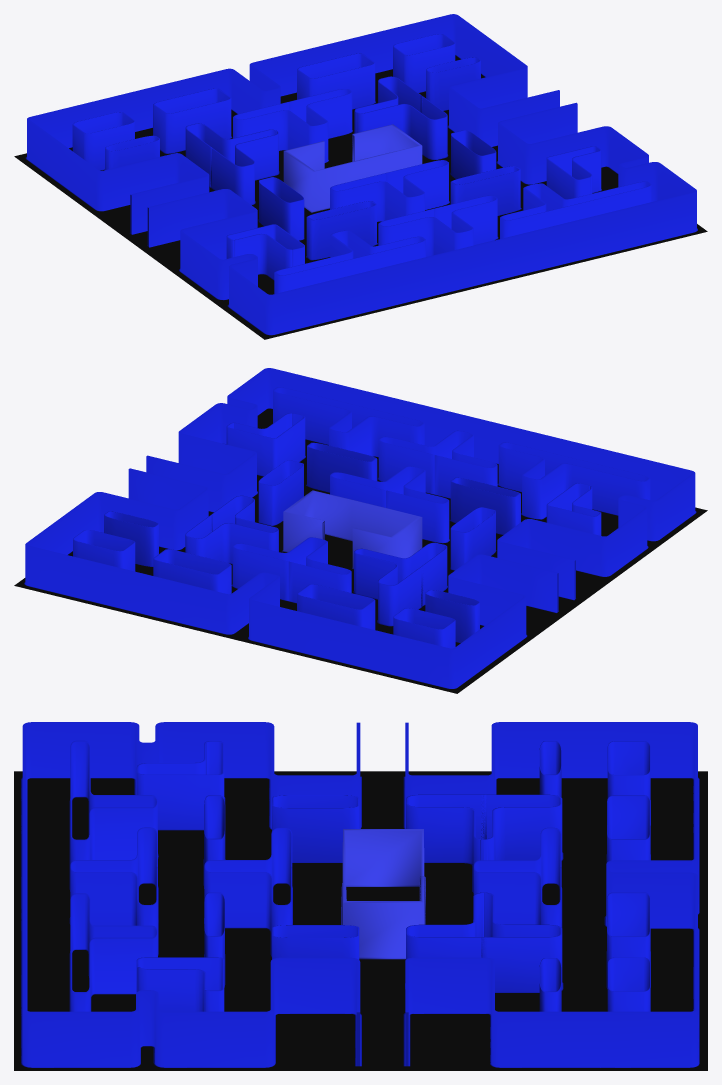
File: mazeWith3Depth.fbx
The picture shows the model from 3 angles, top to bottom: view 1: azimuth 30°, elevation 25°; view 2: azimuth 150°, elevation 25°; view 3: azimuth 270°, elevation 25°; orthographic projection. The views are drawn at different scales.
Parts seen in each view (by area): view 1: Plane.021, Floor, Plane.001, Plane.002, Plane.004, Plane.006, Plane.005, Plane, Plane.007, Plane.003, Plane.019, Plane.020 (+10 smaller); view 2: Plane.021, Floor, Plane, Plane.001, Plane.007, Plane.002, Plane.006, Plane.004, Plane.005, Plane.003, Plane.009, Plane.010 (+10 smaller); view 3: Floor, Plane.021, Plane.002, Plane.001, Plane.003, Plane.007, Plane.005, Plane, Plane.006, Plane.004, Plane.008, Plane.012 (+10 smaller).
Part boxes in pixels (x1,y1,x2,y2): Plane.021: [25, 14, 697, 335]; Floor: [14, 55, 707, 339]; Plane.001: [283, 124, 422, 212]; Plane.002: [185, 123, 279, 205]; Plane.004: [233, 89, 352, 162]; Plane.006: [378, 195, 498, 256]; Plane.005: [330, 160, 449, 221]; Plane: [274, 230, 425, 293]; Plane.007: [500, 181, 651, 238]; Plane.003: [354, 76, 448, 159]; Plane.019: [153, 88, 232, 153]; Plane.020: [297, 53, 375, 109]; Plane.021: [24, 368, 696, 688]; Floor: [14, 408, 707, 693]; Plane: [497, 442, 650, 519]; Plane.001: [282, 490, 422, 569]; Plane.007: [273, 387, 424, 457]; Plane.002: [353, 542, 447, 626]; Plane.006: [378, 430, 497, 498]; Plane.004: [231, 537, 351, 603]; Plane.005: [330, 466, 449, 543]; Plane.003: [185, 495, 278, 564]; Plane.009: [226, 413, 305, 476]; Plane.010: [450, 477, 520, 534]; Floor: [14, 771, 707, 1070]; Plane.021: [21, 722, 699, 1067]; Plane.002: [406, 794, 563, 892]; Plane.001: [341, 829, 425, 959]; Plane.003: [405, 892, 563, 992]; Plane.007: [69, 893, 157, 1011]; Plane.005: [204, 827, 292, 956]; Plane: [69, 740, 158, 891]; Plane.006: [69, 827, 158, 955]; Plane.004: [473, 827, 562, 927]; Plane.008: [136, 741, 225, 830]; Plane.012: [272, 795, 359, 862].
Bounding box in the file's own units: 3690 × 323 × 3613.
